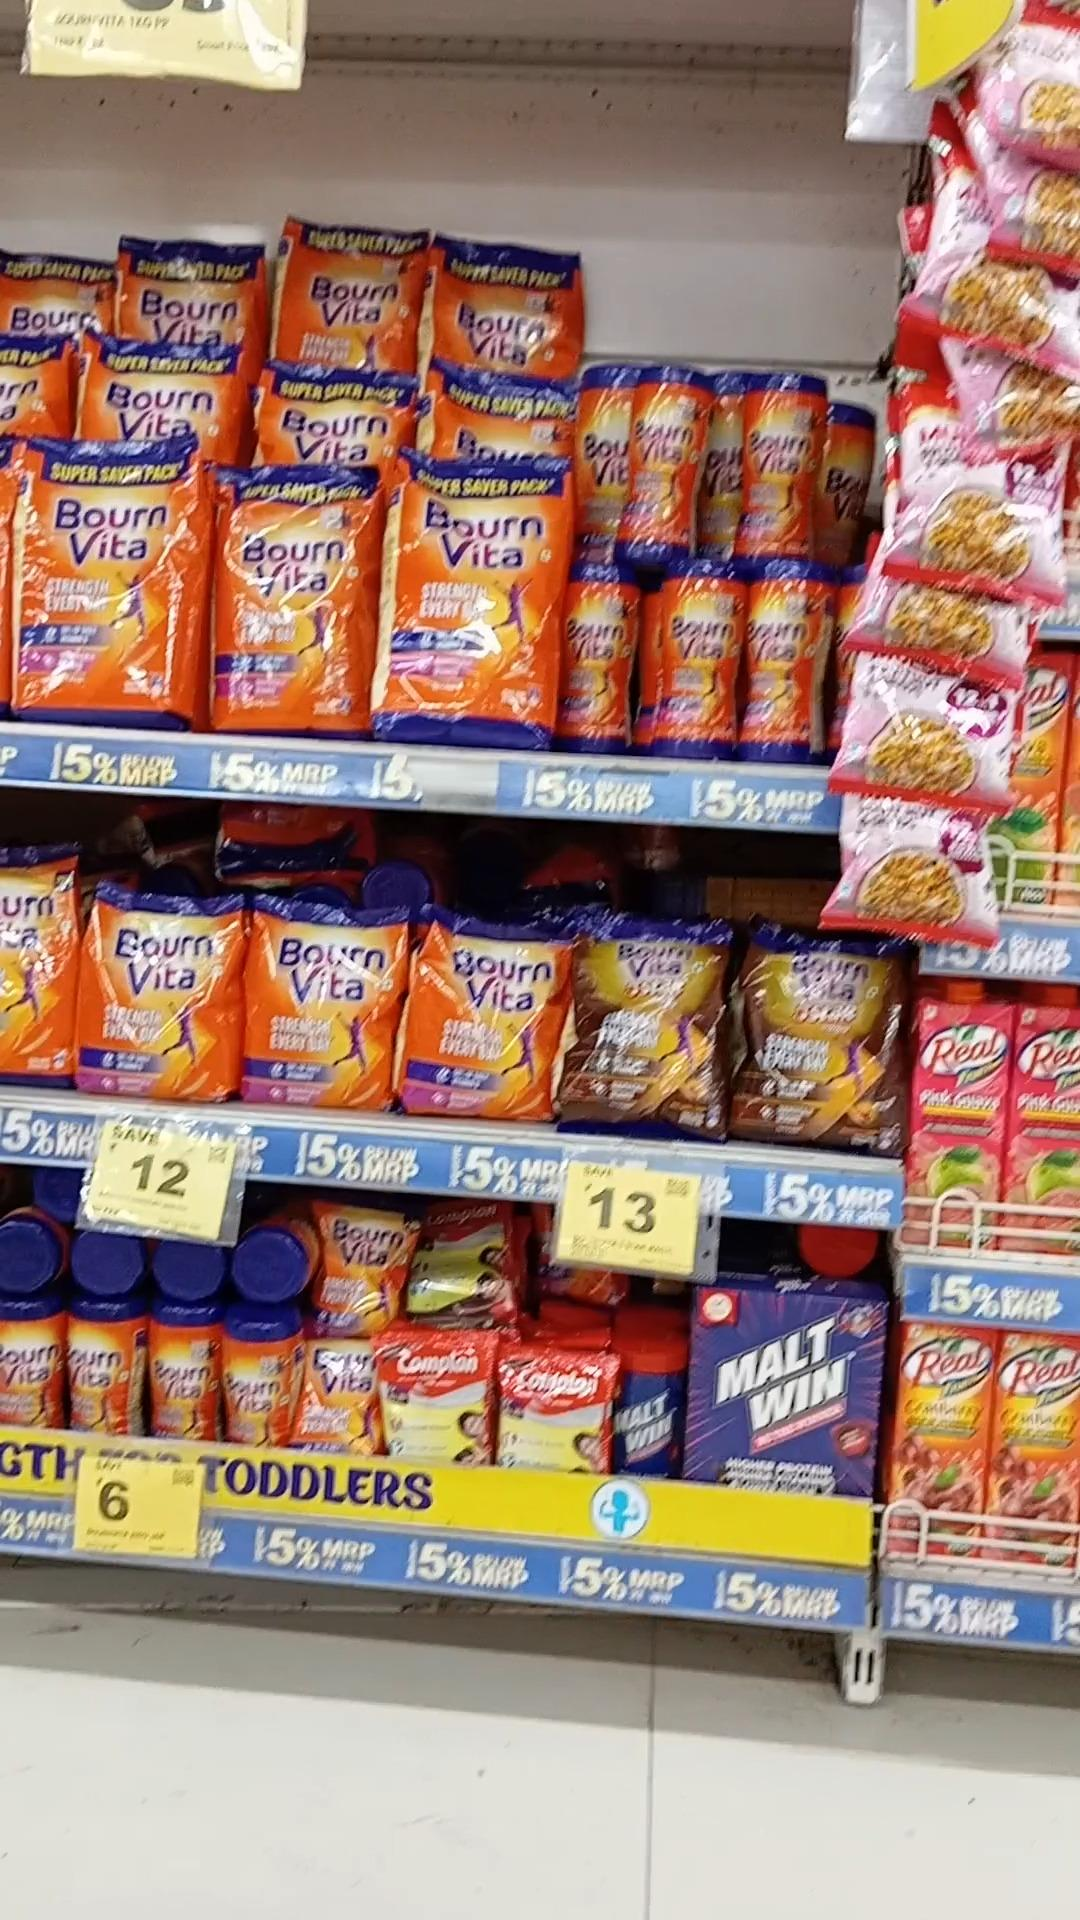BOURN_VITA_1_KG_POUCH: (16, 434, 199, 721), (381, 451, 555, 736), (208, 465, 372, 731)
BOURN_VITA_200_G_JAR: (65, 1290, 142, 1433), (149, 1302, 220, 1441), (227, 1304, 295, 1448), (0, 1295, 61, 1425)
BOURN_VITA_500_G_JAR: (645, 553, 744, 754), (617, 363, 704, 546), (750, 556, 822, 762), (741, 371, 819, 553), (562, 562, 634, 753)
BOURN_VITA_500_G_POUCH: (78, 889, 243, 1102), (398, 913, 556, 1121), (248, 901, 394, 1113)
BOURN_VITA_75_G_POUCH: (316, 1200, 415, 1331), (299, 1338, 380, 1456)
BOURN_VITA_FIVE_STAR_MAGIC_500_G_POUCH: (564, 916, 728, 1141), (733, 939, 898, 1147)
